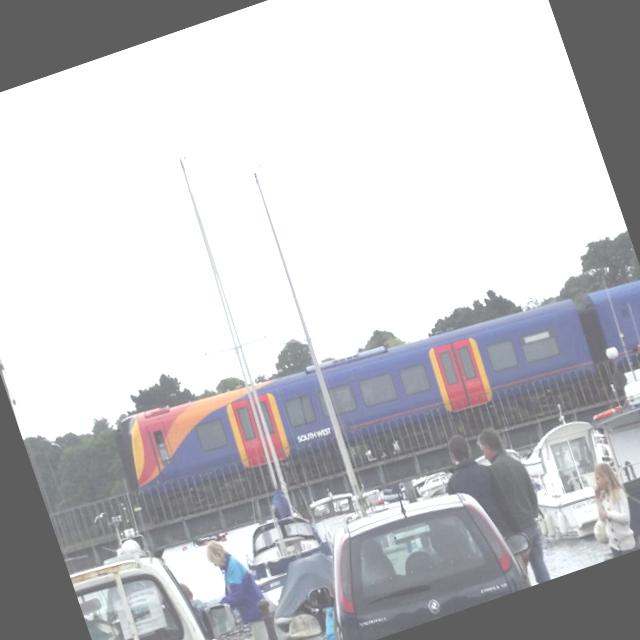Vehicle: (298, 470, 537, 640), (68, 529, 241, 640)
